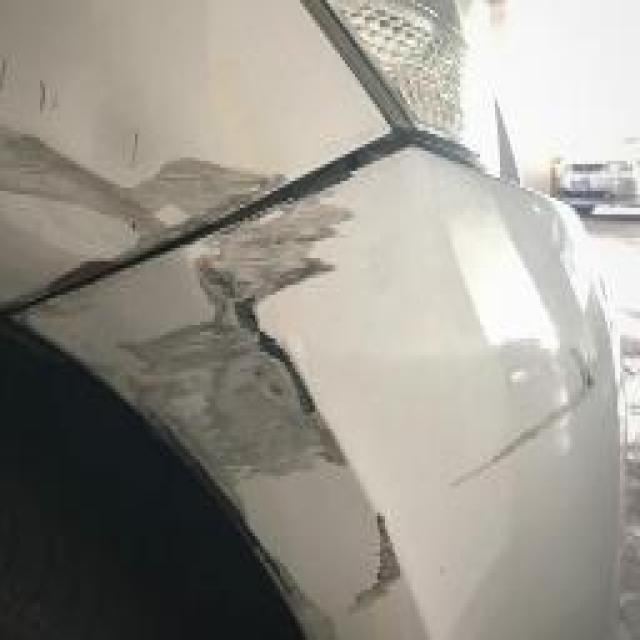Bumper: (98, 188, 608, 640)
Fender: (0, 50, 275, 285)
